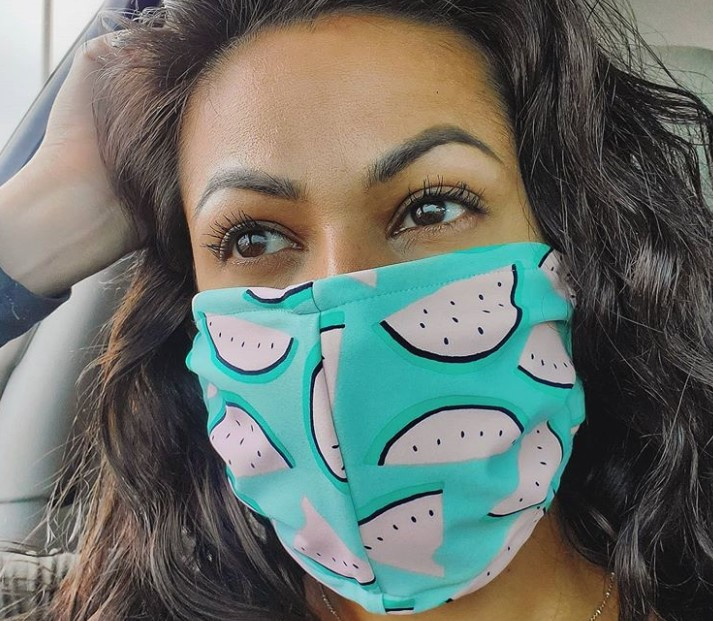face_with_mask: (157, 13, 587, 595)
